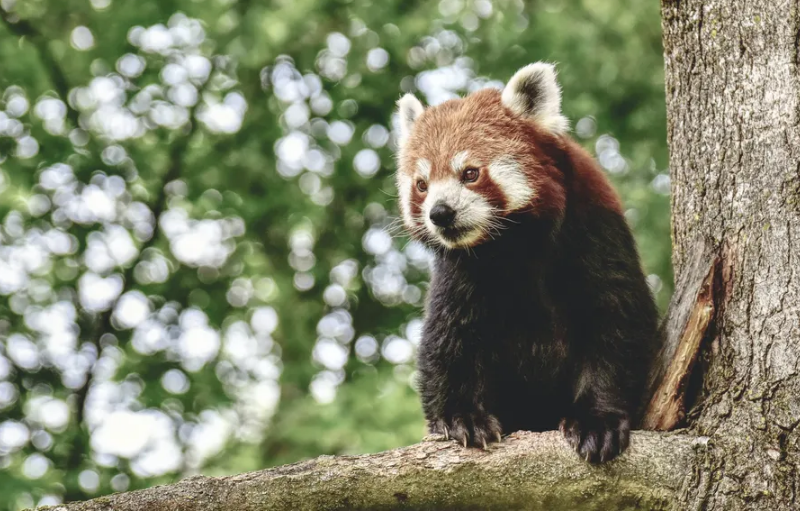red_panda: (389, 57, 637, 463)
